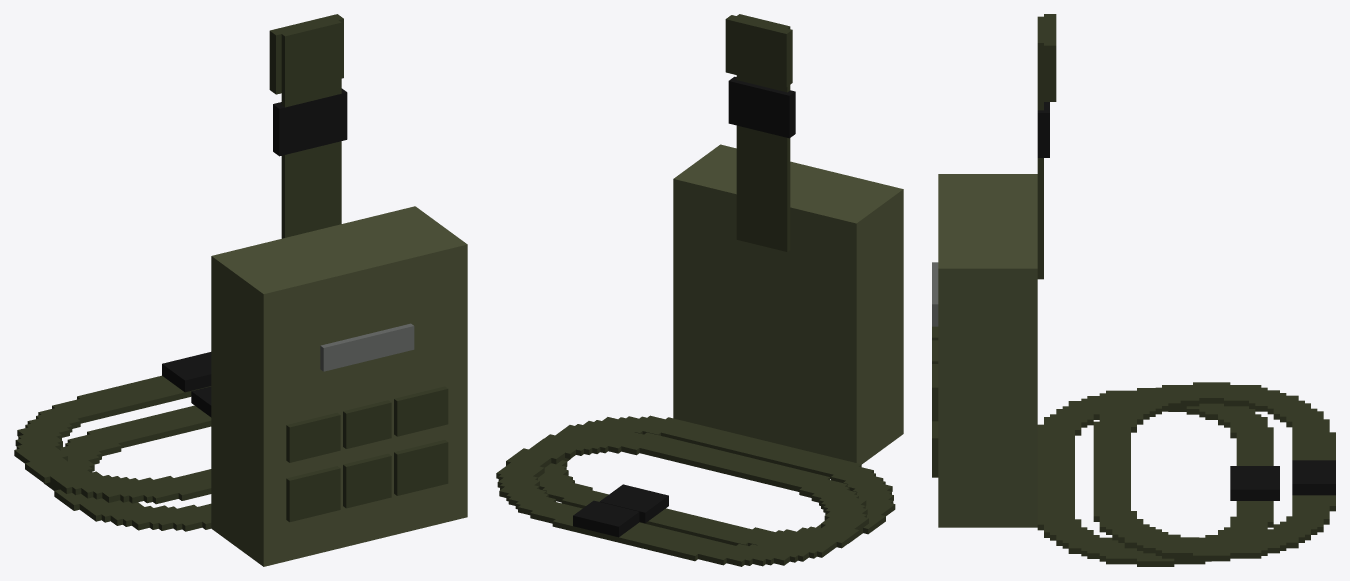
Rendered from legrig.glb.
3 renders of one model, left to right at view 1: azimuth 30°, elevation 25°; view 2: azimuth 150°, elevation 25°; view 3: azimuth 270°, elevation 25°, orthographic. The views are drawn at different scales.
Visible parts, largest first — view 1: legrig:compound; view 2: legrig:compound; view 3: legrig:compound.
Part boxes in pixels (x1,y1,x2,y2): legrig:compound: (14,14,467,566); legrig:compound: (496,14,903,566); legrig:compound: (932,14,1335,566).
Bounding box in the file's own units: 0.264 × 0.32 × 0.26.
